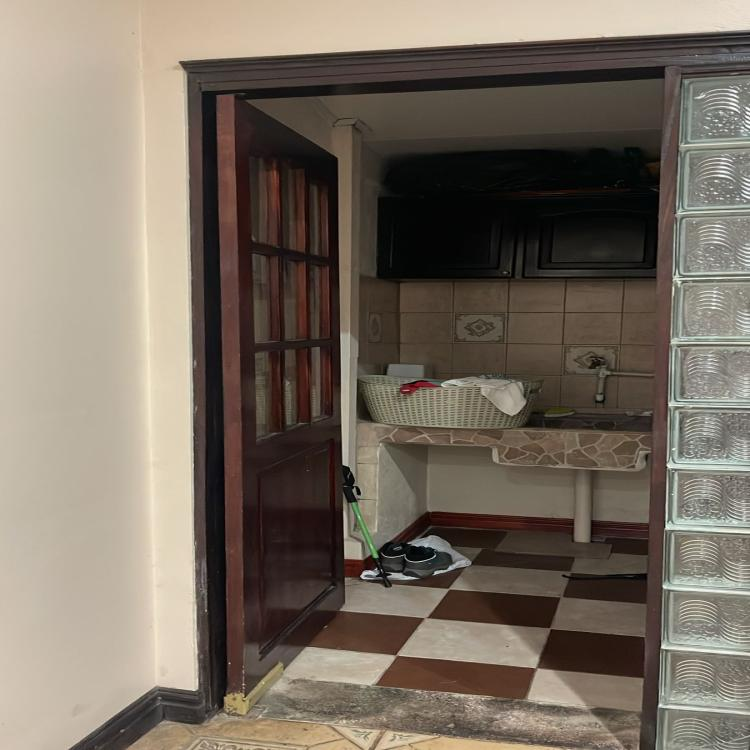OpenDoor: (189, 65, 672, 750)
